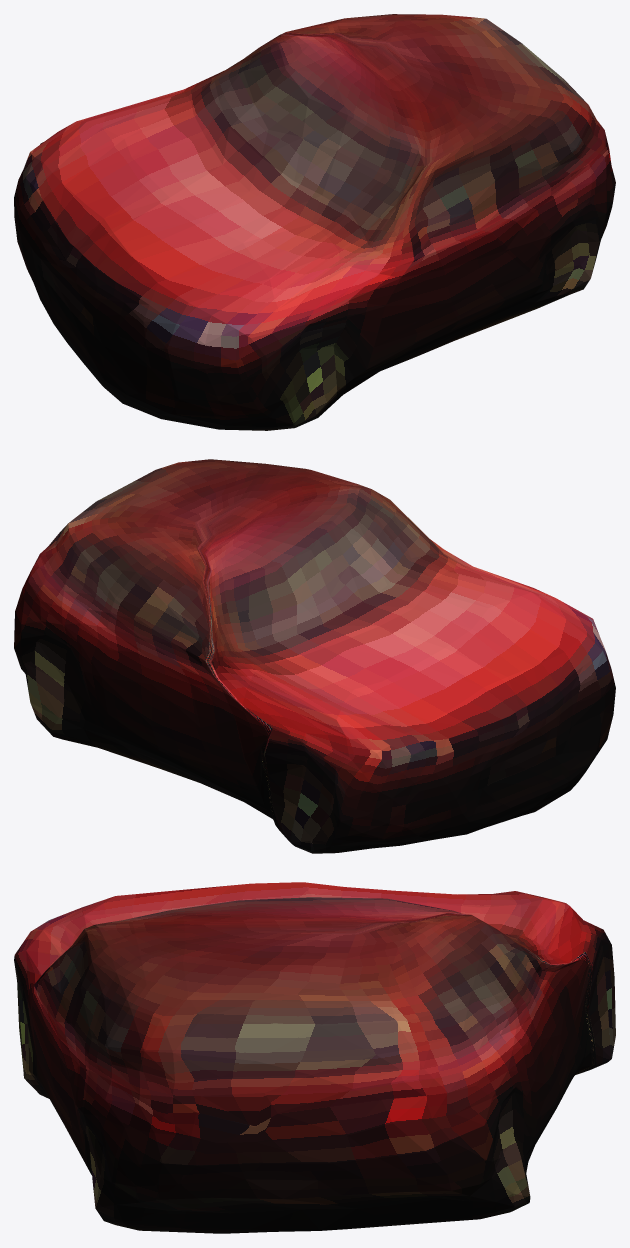
The model's file is video3_81.obj.
3 views of the same model, one above another, from view 1: azimuth 30°, elevation 25°; view 2: azimuth 150°, elevation 25°; view 3: azimuth 270°, elevation 25° (orthographic). The views are drawn at different scales.
Size of the model in its own units: 1 by 0.4763 by 0.8762.
1 material, 1 textured.
